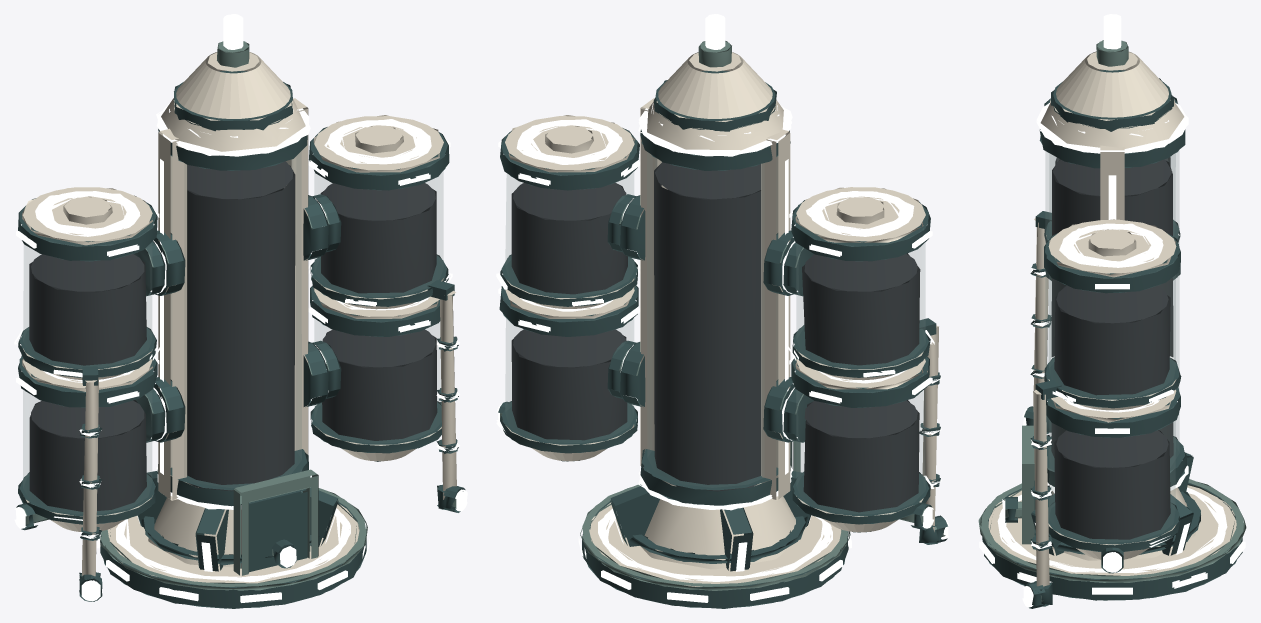
Rendered from Vat_T4_lab.glb.
3 renders of one model, left to right at view 1: azimuth 30°, elevation 25°; view 2: azimuth 150°, elevation 25°; view 3: azimuth 270°, elevation 25°, orthographic.
Visible parts, largest first — view 1: Vat_T4; view 2: Vat_T4; view 3: Vat_T4.
Part boxes in pixels (x1,y1,x2,y2): Vat_T4: (14,14,467,608); Vat_T4: (496,14,949,608); Vat_T4: (978,14,1246,608).
Bounding box in the file's own units: 7.65 × 9.21 × 4.2.
